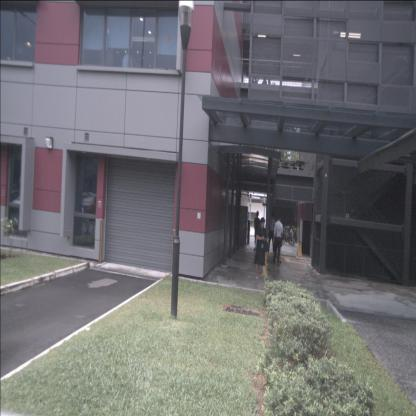human-pedestrian-adult: (254, 218, 269, 284), (272, 216, 283, 266), (267, 211, 276, 253), (254, 211, 261, 251)
vehicle-car: (79, 194, 115, 220)
